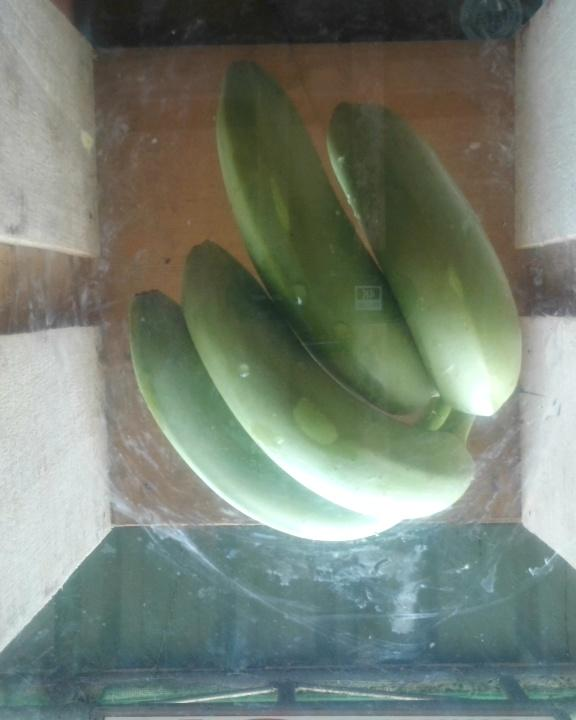SPOT: (123, 52, 550, 544)
